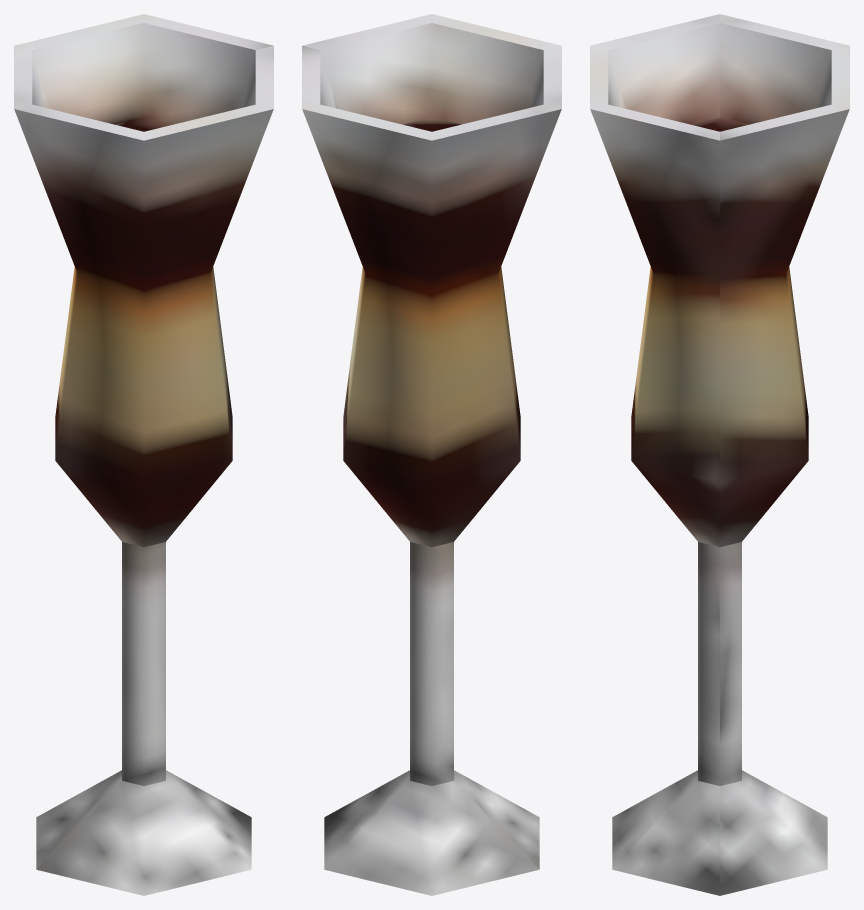
File: DrinkV5.fbx
3 views of the same model, side by side, from view 1: azimuth 30°, elevation 25°; view 2: azimuth 150°, elevation 25°; view 3: azimuth 270°, elevation 25° (orthographic).
Parts seen in each view (by area): view 1: Cocktails.008; view 2: Cocktails.008; view 3: Cocktails.008.
Part boxes in pixels (x1,y1,x2,y2): Cocktails.008: (14, 14, 273, 895); Cocktails.008: (302, 14, 561, 895); Cocktails.008: (590, 14, 849, 895).
Size of the model in its own units: 0.0797 by 0.2246 by 0.069.
